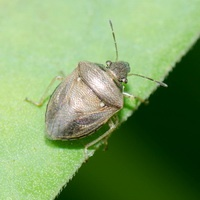insect: (45, 20, 130, 139)
